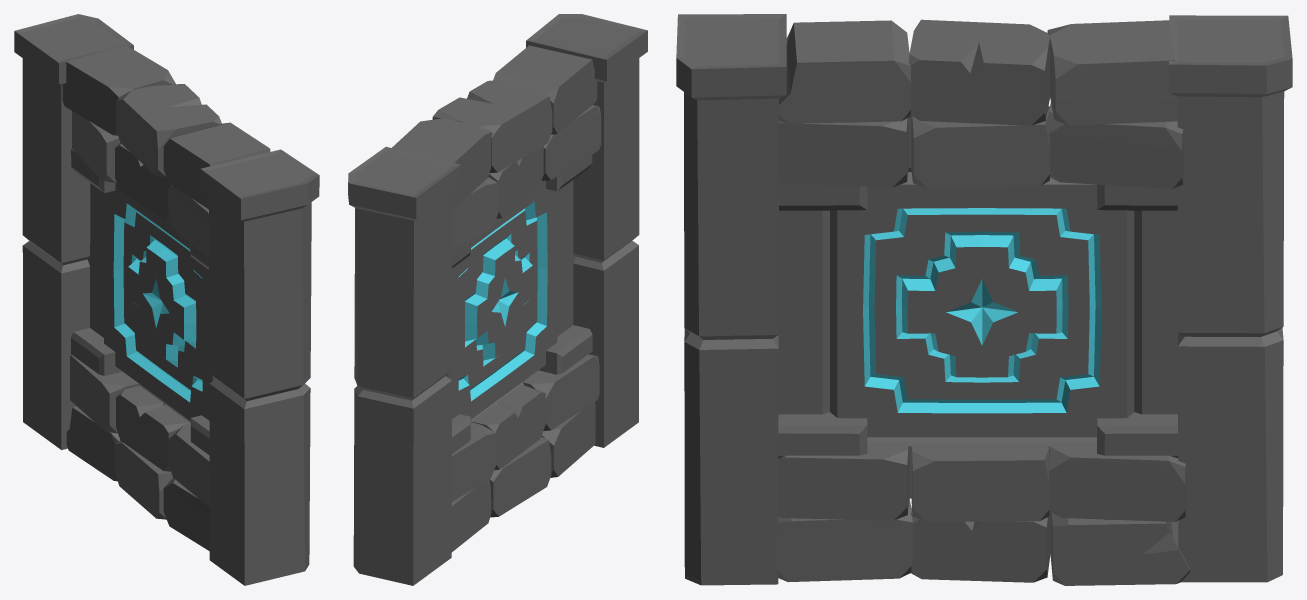
Rendered from MovingWall.fbx.
The picture shows the model from 3 angles, left to right: view 1: azimuth 30°, elevation 25°; view 2: azimuth 150°, elevation 25°; view 3: azimuth 270°, elevation 25°; orthographic projection. The views are drawn at different scales.
Parts seen in each view (by area): view 1: Moving Wall FInal; view 2: Moving Wall FInal; view 3: Moving Wall FInal.
Part boxes in pixels (<box>): Moving Wall FInal: <box>14,14,319,585</box>; Moving Wall FInal: <box>348,14,647,585</box>; Moving Wall FInal: <box>676,14,1292,585</box>.
Size of the model in its own units: 134 by 600 by 642.
